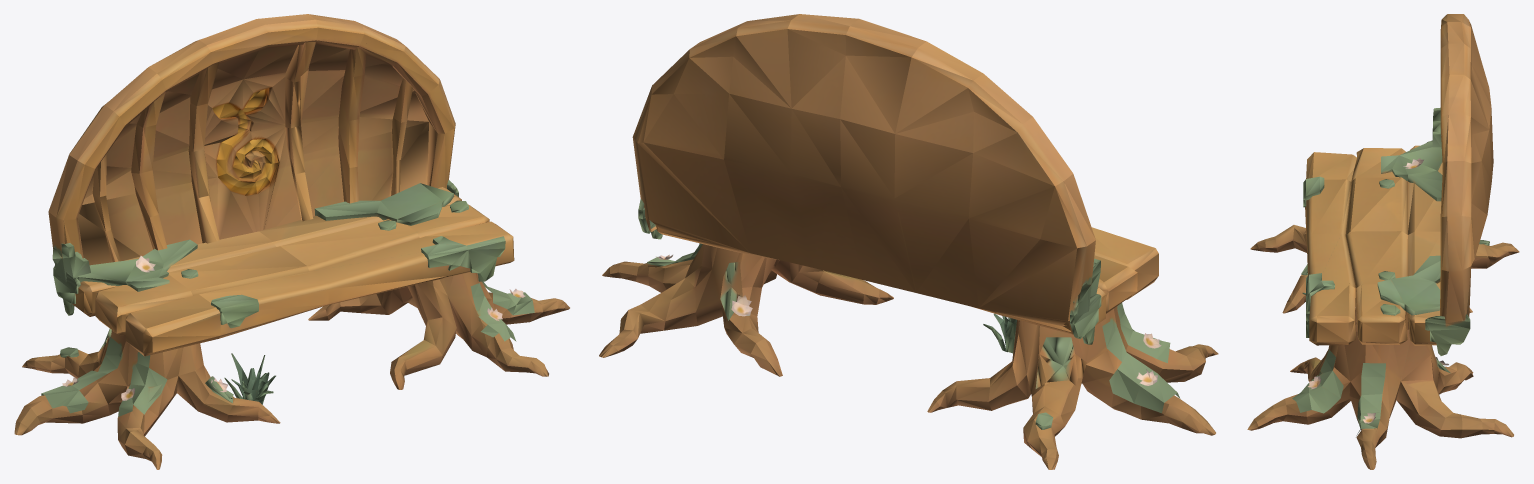
File: banc.glb
3 renders of one model, left to right at view 1: azimuth 30°, elevation 25°; view 2: azimuth 150°, elevation 25°; view 3: azimuth 270°, elevation 25°, orthographic. The views are drawn at different scales.
Parts seen in each view (by area): view 1: Banc; view 2: Banc; view 3: Banc.
Part boxes in pixels (x1,y1,x2,y2): Banc: (14,14,569,469); Banc: (599,14,1218,469); Banc: (1247,14,1519,469).
Size of the model in its own units: 3.58 by 2 by 1.63.
Materials: 1 (1 with a texture image).
